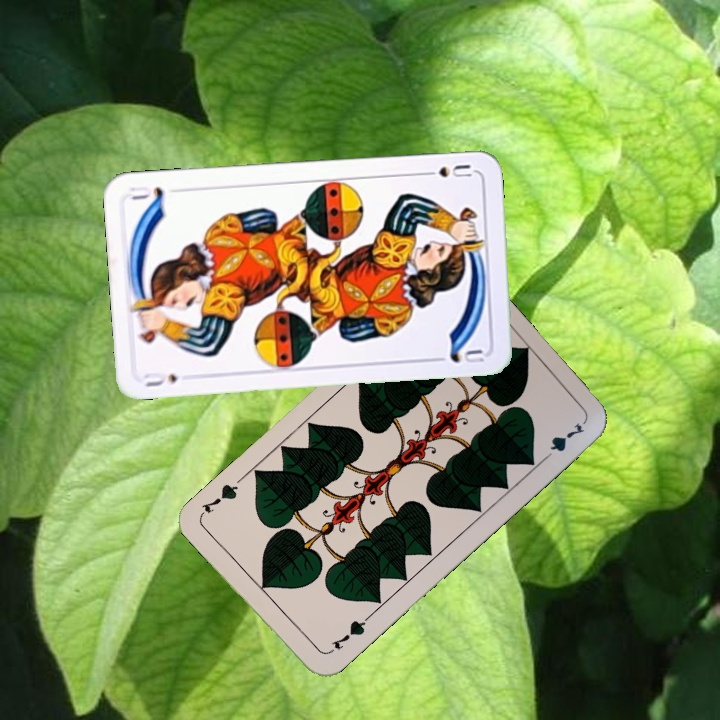G7: (323, 613, 371, 657)
SU: (417, 160, 475, 183), (140, 368, 181, 390)
